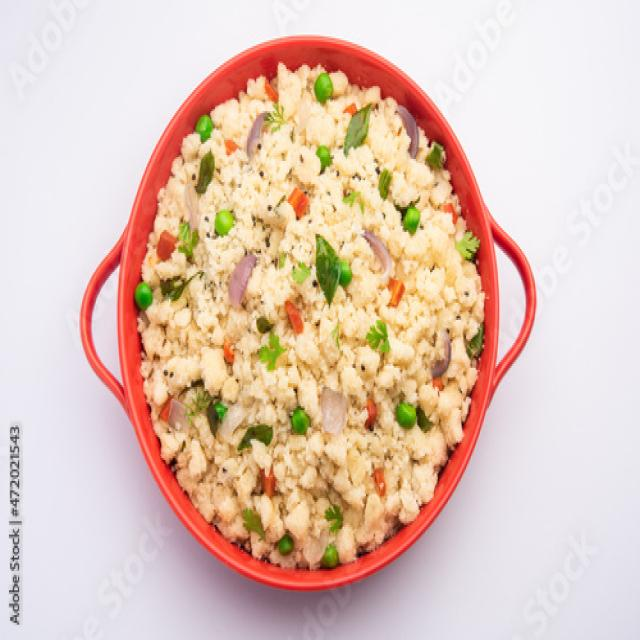UPMA: (131, 79, 480, 567)
